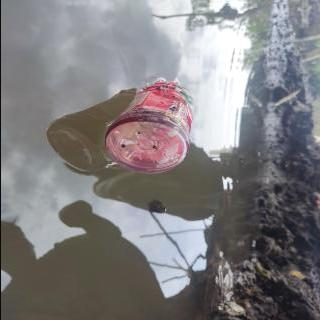bottle: (102, 76, 198, 176)
